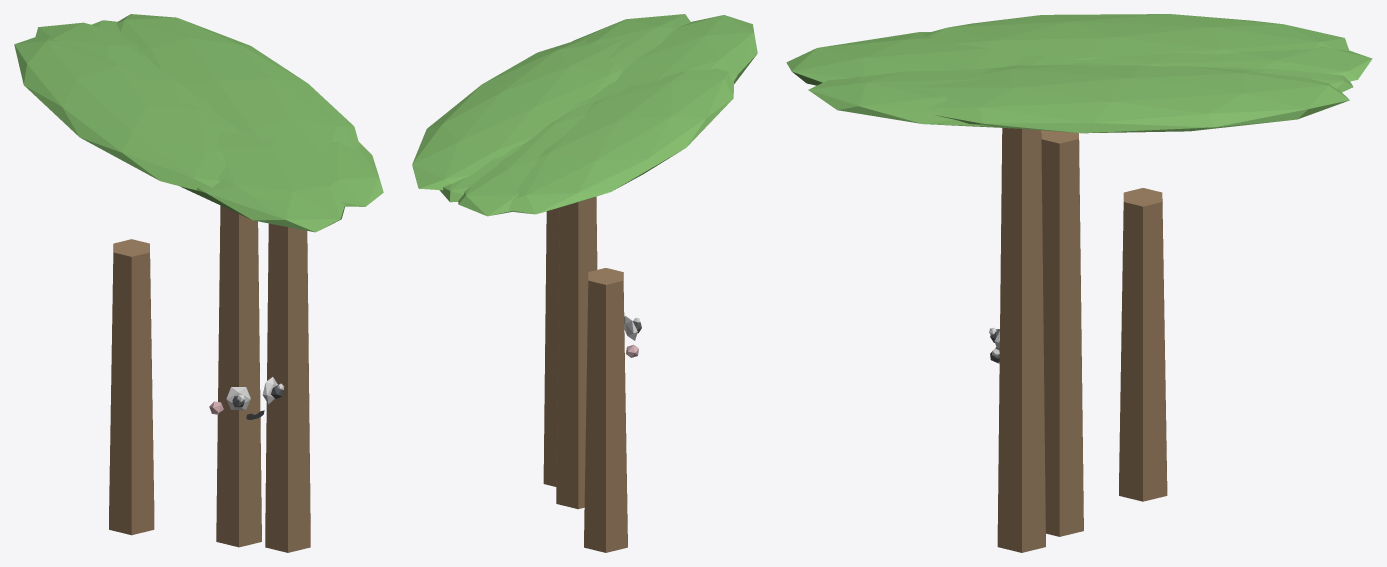
File: caryota-mitis.glb
3 views of the same model, side by side, from view 1: azimuth 30°, elevation 25°; view 2: azimuth 150°, elevation 25°; view 3: azimuth 270°, elevation 25° (orthographic). The views are drawn at different scales.
Visible parts, largest first — view 1: frond3, frond0, trunk1, trunk0, trunk2, frond2, frond1, frond4, frond6; view 2: frond3, frond0, trunk2, trunk0, frond2, frond4, trunk1, frond1, frond6; view 3: frond0, trunk1, trunk0, trunk2, frond3, frond2, frond1, frond4, frond6.
Part boxes in pixels (x1,y1,x2,y2): frond3: (14,36,226,190); frond0: (117,14,360,158); trunk1: (265,223,310,552); trunk0: (216,205,261,547); trunk2: (109,239,154,535); frond2: (180,132,345,232); frond1: (250,136,383,206); frond4: (35,22,238,132); frond6: (92,20,241,132); frond3: (508,68,733,214); frond0: (412,38,623,190); trunk2: (584,268,627,552); trunk0: (556,196,597,509); frond2: (617,15,757,86); frond4: (458,80,628,216); trunk1: (543,207,559,486); frond1: (572,14,690,74); frond6: (439,79,617,202); frond0: (917,65,1349,133); trunk1: (997,128,1045,552); trunk0: (1041,130,1083,536); trunk2: (1119,188,1167,501); frond3: (923,14,1349,59); frond2: (786,32,1024,85); frond1: (808,67,1015,128); frond4: (1016,47,1372,81); frond6: (1014,62,1353,92).
Bounding box in the file's own units: 0.3464 × 0.6288 × 0.7369.
